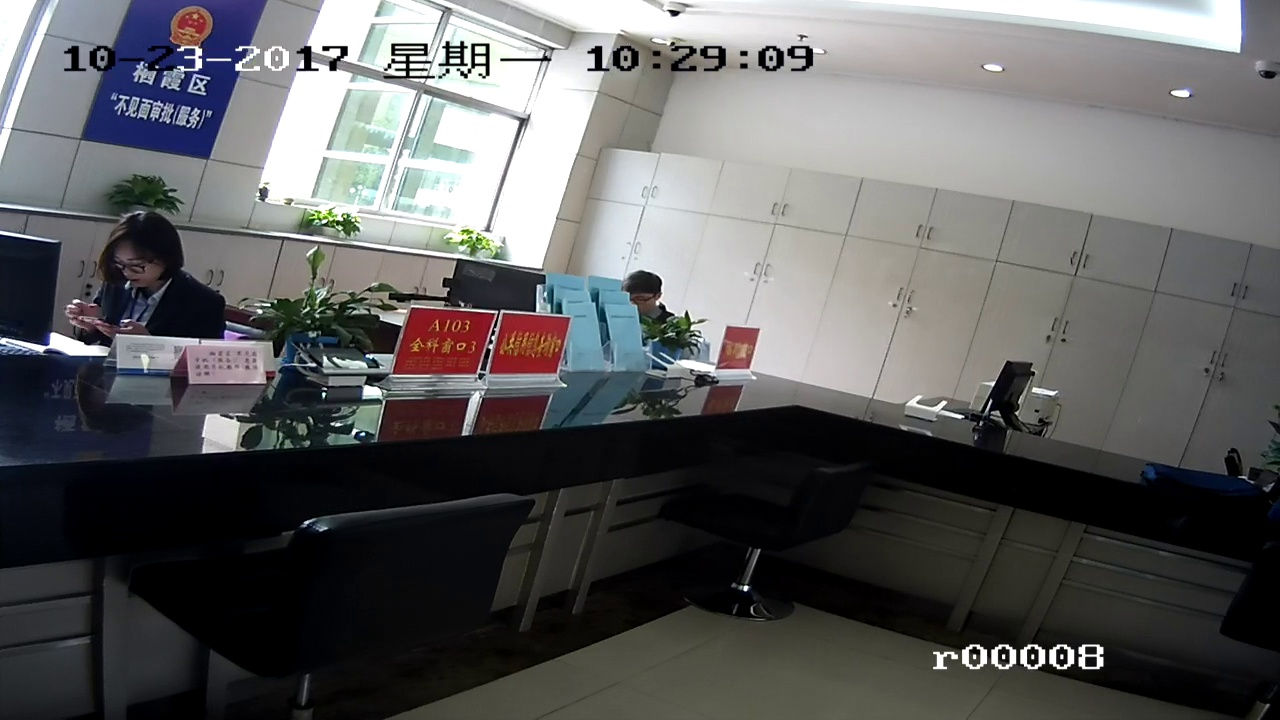billboard: (399, 306, 491, 370), (503, 314, 558, 382)
chair: (201, 507, 545, 661), (671, 453, 876, 633)
monitor: (982, 357, 1033, 427)
person: (103, 222, 198, 329), (623, 263, 675, 352)
pot: (265, 253, 386, 371), (454, 228, 493, 267), (308, 206, 348, 242)
